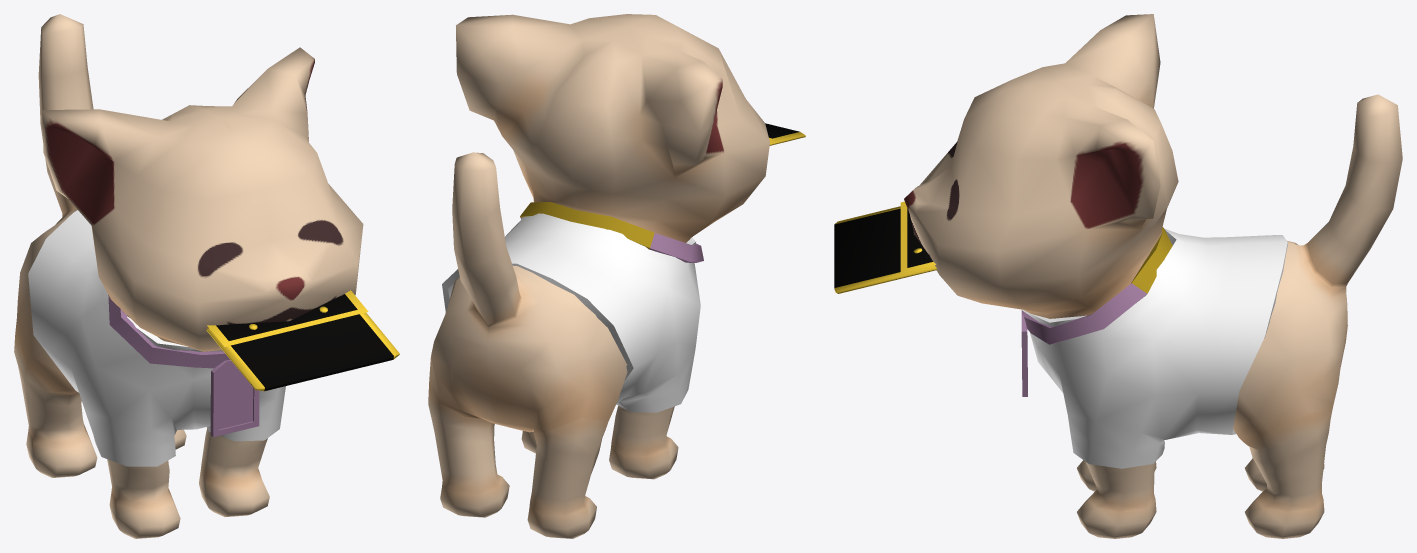
File: Student Cat01_01.fbx
The picture shows the model from 3 angles, left to right: view 1: azimuth 30°, elevation 25°; view 2: azimuth 150°, elevation 25°; view 3: azimuth 270°, elevation 25°; orthographic projection. The views are drawn at different scales.
Visible parts, largest first — view 1: Cat_Base, tshirt, Plastic Envelope, id; view 2: Cat_Base, tshirt, id, Plastic Envelope; view 3: Cat_Base, tshirt, Plastic Envelope, id.
Boxes of the visible parts, box(x1,y1,x2,y2) form: Cat_Base: box(14, 14, 363, 538); tshirt: box(28, 210, 285, 466); Plastic Envelope: box(206, 290, 399, 391); id: box(108, 295, 259, 437); Cat_Base: box(428, 14, 769, 538); tshirt: box(442, 213, 700, 412); id: box(520, 202, 703, 262); Plastic Envelope: box(765, 123, 805, 145); Cat_Base: box(904, 14, 1402, 538); tshirt: box(1022, 228, 1287, 468); Plastic Envelope: box(834, 201, 936, 293); id: box(1021, 227, 1172, 396).
Bounding box in the file's own units: 1.75 × 3.23 × 2.68.
6 materials, 1 textured.
